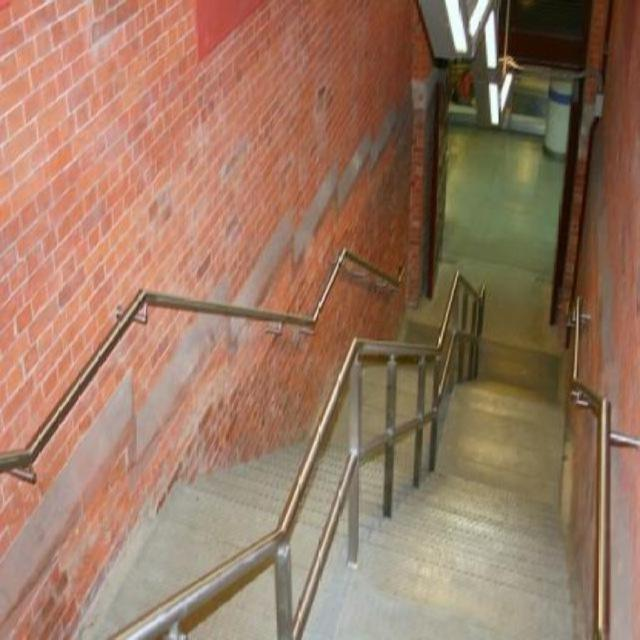stair: (360, 249, 584, 629)
